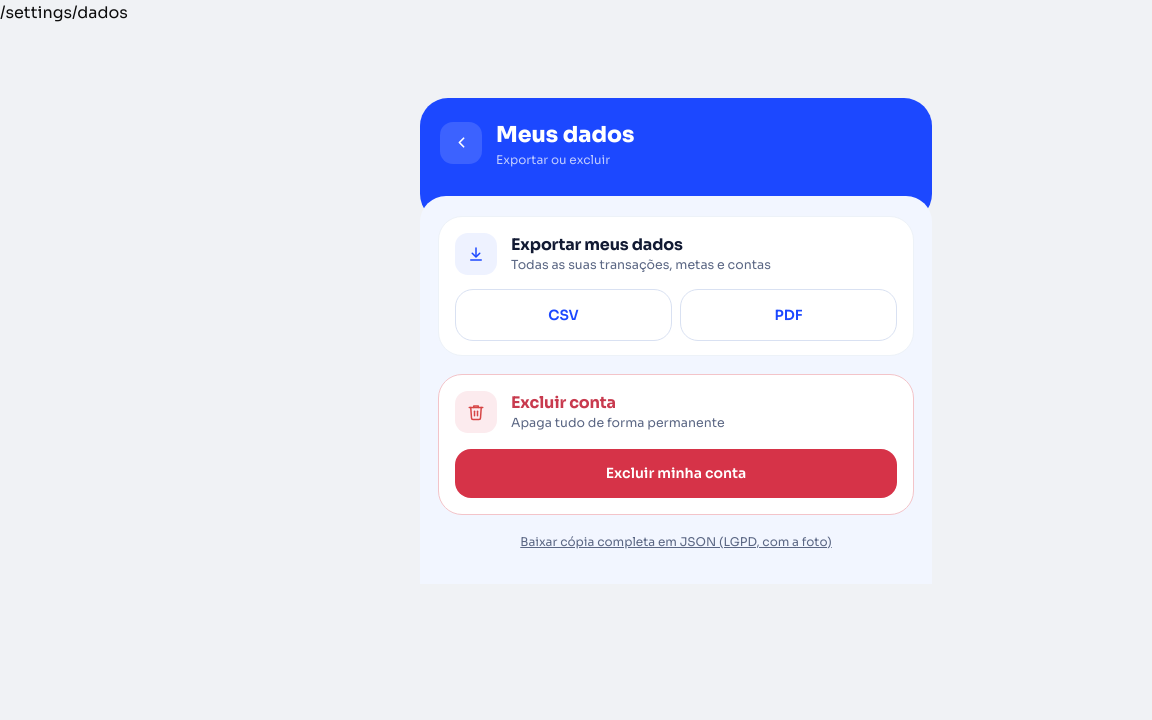
Test case: Meus dados — excluir conta › plano pro: a linha "Plano cancelado — sem reembolso" aparece? true
Click the button "Excluir minha conta". click: (676, 473)
box: [455,449,897,498]
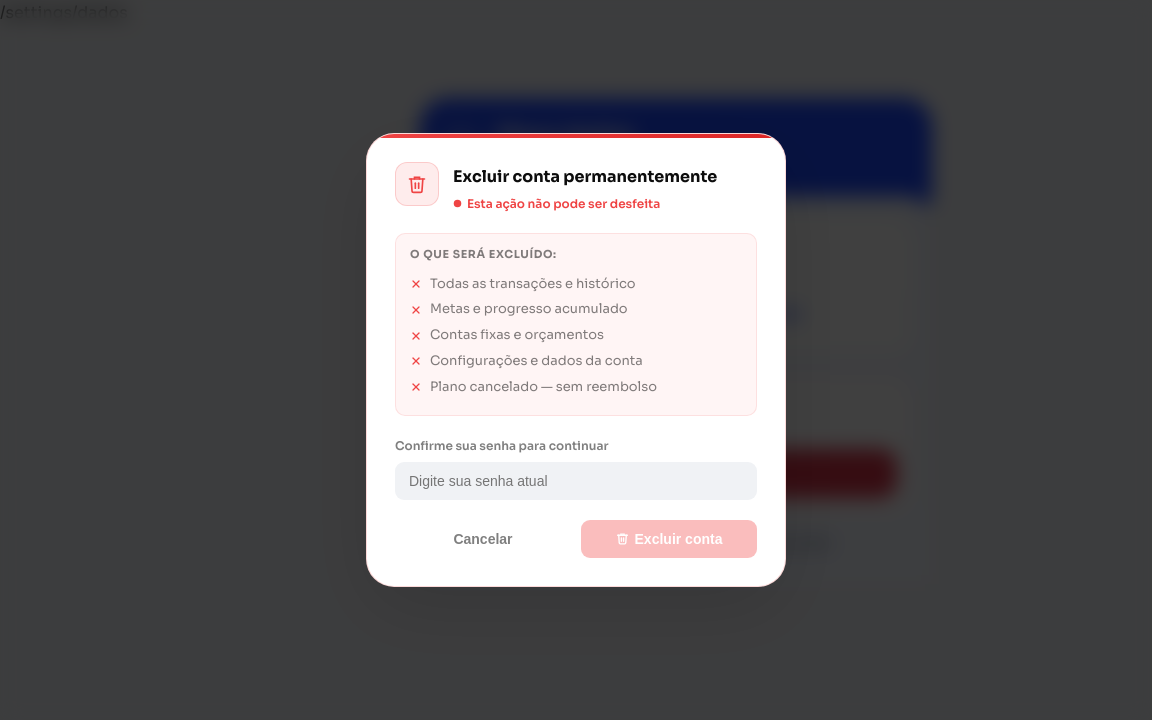
Expected: the text "Plano cancelado — sem reembolso" is shown, [410,378,657,395]
Expected: the text "Todas as transações e histórico" is shown, [410,275,636,292]
